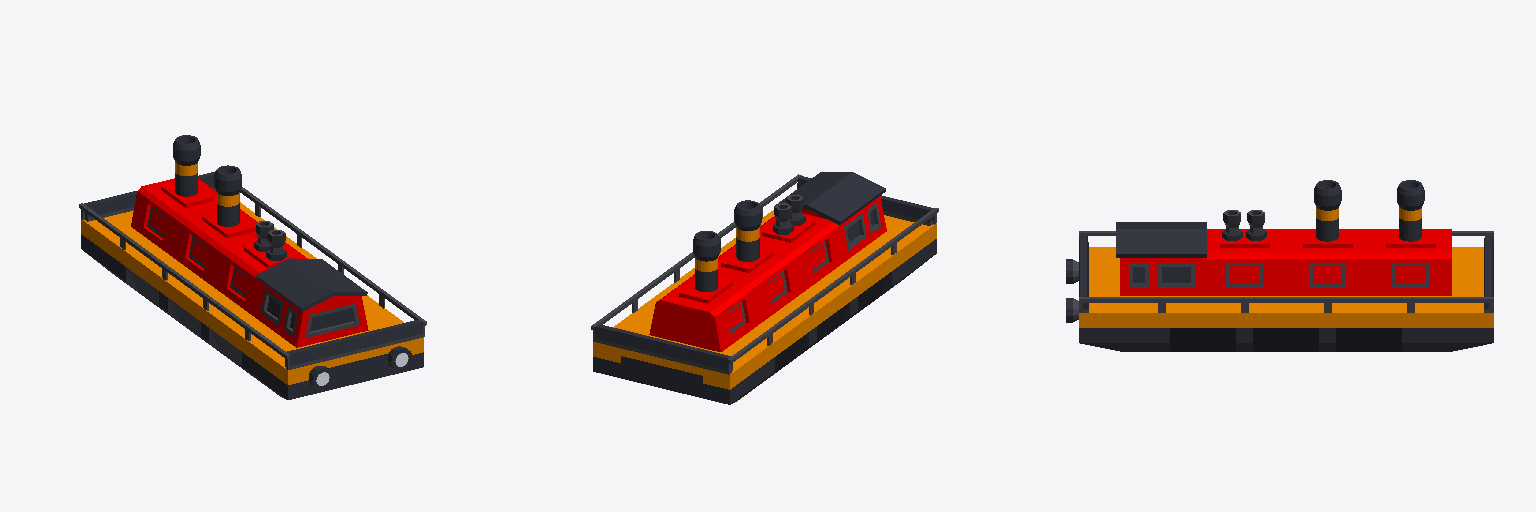
Rendered from boat4.obj.
3 renders of one model, left to right at view 1: azimuth 30°, elevation 25°; view 2: azimuth 150°, elevation 25°; view 3: azimuth 270°, elevation 25°, orthographic.
Visible parts, largest first — view 1: diesel_cabin_detail, body_backSolid, diesel_cabin_roof, body_edge, fuel_thin, detail_fence_support, detail_chimney, detail_light, chimney_small; view 2: diesel_cabin_detail, body_backSolid, body_edge, diesel_cabin_roof, fuel_thin, detail_fence_support, detail_chimney, chimney_small; view 3: diesel_cabin_detail, body_edge, body_backSolid, diesel_cabin_roof, detail_fence_support, detail_chimney, fuel_thin, chimney_small, detail_light.
Boxes of the visible parts, x1,y1,x2,y2 form: diesel_cabin_detail: [131, 178, 307, 316]; body_backSolid: [81, 202, 423, 399]; diesel_cabin_roof: [255, 258, 368, 347]; body_edge: [122, 216, 380, 380]; fuel_thin: [84, 171, 422, 369]; detail_fence_support: [79, 187, 426, 369]; detail_chimney: [173, 135, 241, 226]; detail_light: [309, 346, 412, 390]; chimney_small: [254, 221, 286, 260]; diesel_cabin_detail: [649, 213, 845, 351]; body_backSolid: [593, 210, 936, 404]; body_edge: [636, 221, 895, 383]; diesel_cabin_roof: [775, 172, 886, 260]; fuel_thin: [595, 176, 933, 373]; detail_fence_support: [591, 174, 938, 374]; detail_chimney: [693, 200, 761, 291]; chimney_small: [773, 195, 805, 234]; diesel_cabin_detail: [1203, 229, 1451, 295]; body_edge: [1162, 296, 1410, 351]; body_backSolid: [1079, 247, 1493, 351]; diesel_cabin_roof: [1116, 222, 1206, 295]; detail_fence_support: [1079, 231, 1493, 312]; detail_chimney: [1314, 180, 1424, 241]; fuel_thin: [1079, 233, 1493, 312]; chimney_small: [1222, 210, 1266, 240]; detail_light: [1066, 259, 1078, 322].
Bounding box in the file's own units: 1.95 × 1.84 × 5.15.